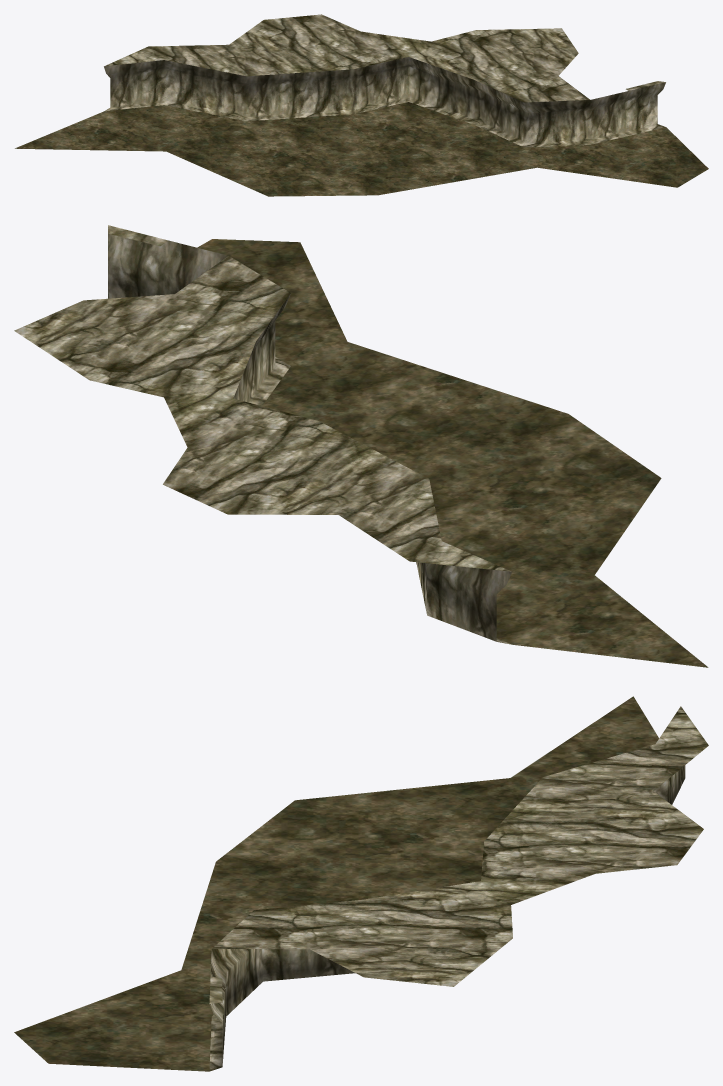
Rendered from CB_NEWPLAYSURFACE_CB_PLAYSURFACE23.fbx.
3 views of the same model, one above another, from view 1: azimuth 30°, elevation 25°; view 2: azimuth 150°, elevation 25°; view 3: azimuth 270°, elevation 25° (orthographic). The views are drawn at different scales.
Visible parts, largest first — view 1: CB_NEWPLAYSURFACE_CB_PLAYSURFACE23; view 2: CB_NEWPLAYSURFACE_CB_PLAYSURFACE23; view 3: CB_NEWPLAYSURFACE_CB_PLAYSURFACE23.
Boxes of the visible parts, x1,y1,x2,y2 form: CB_NEWPLAYSURFACE_CB_PLAYSURFACE23: (15,14,708,196); CB_NEWPLAYSURFACE_CB_PLAYSURFACE23: (14,225,708,667); CB_NEWPLAYSURFACE_CB_PLAYSURFACE23: (14,696,708,1071).
Size of the model in its own units: 356585 by 30000 by 278968.
3 materials, 3 textured.
